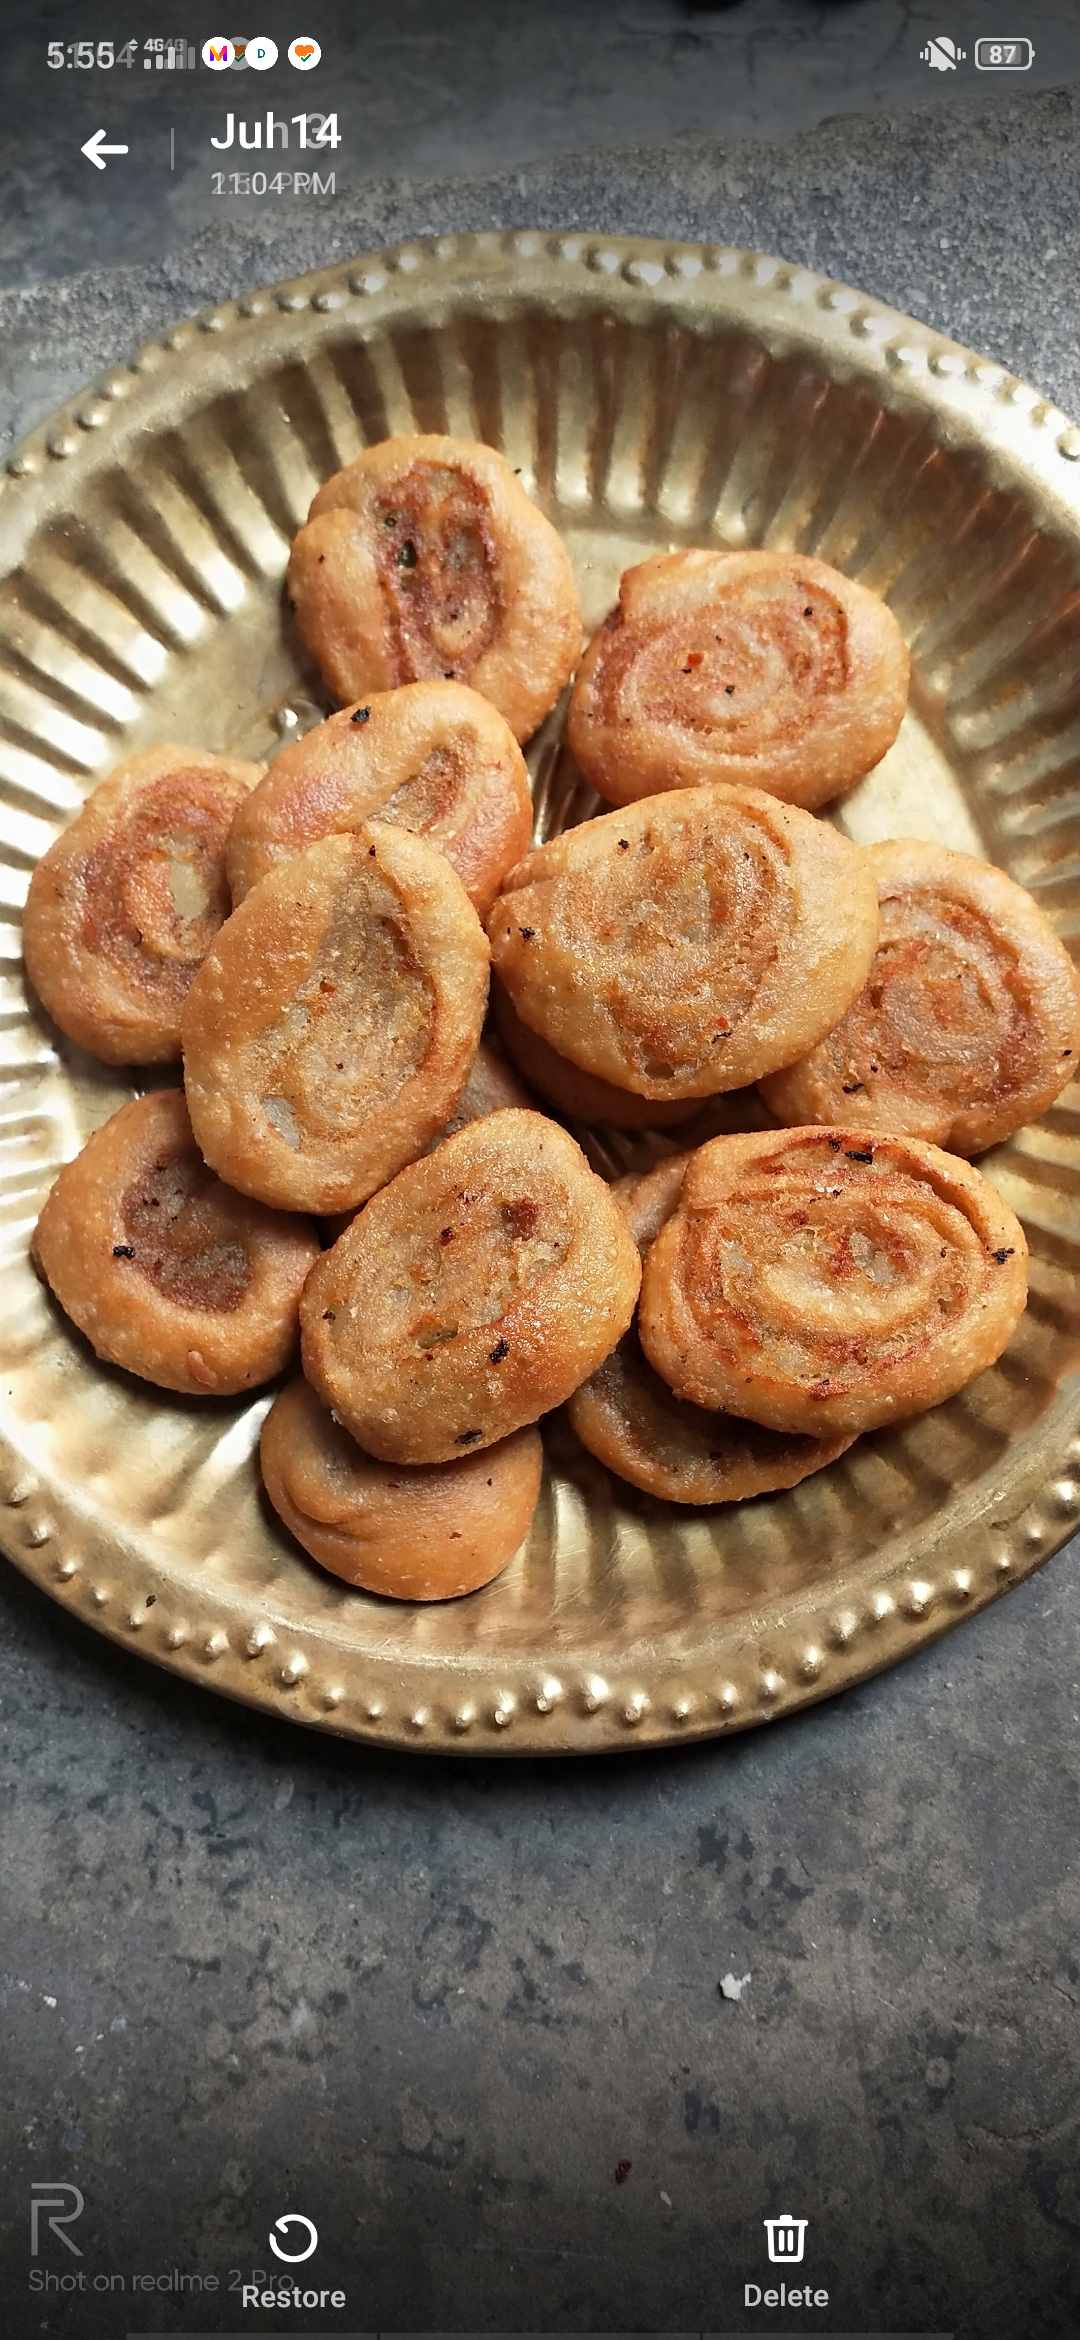food: (7, 424, 1079, 1612)
